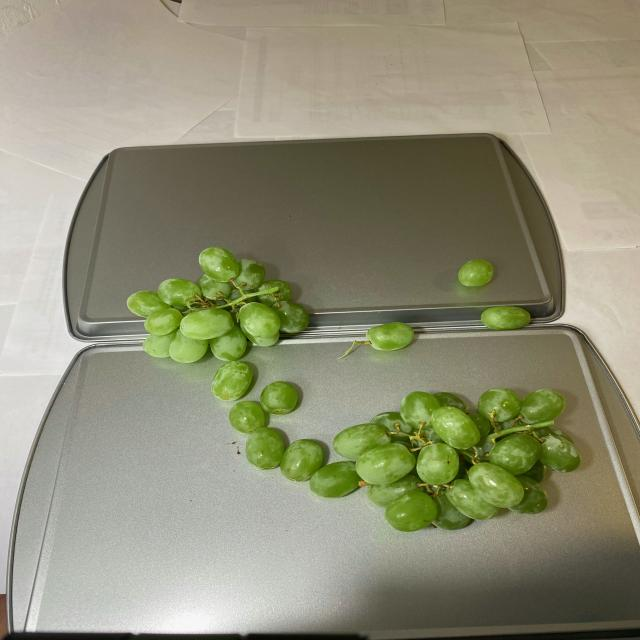grapes: (123, 246, 580, 528)
